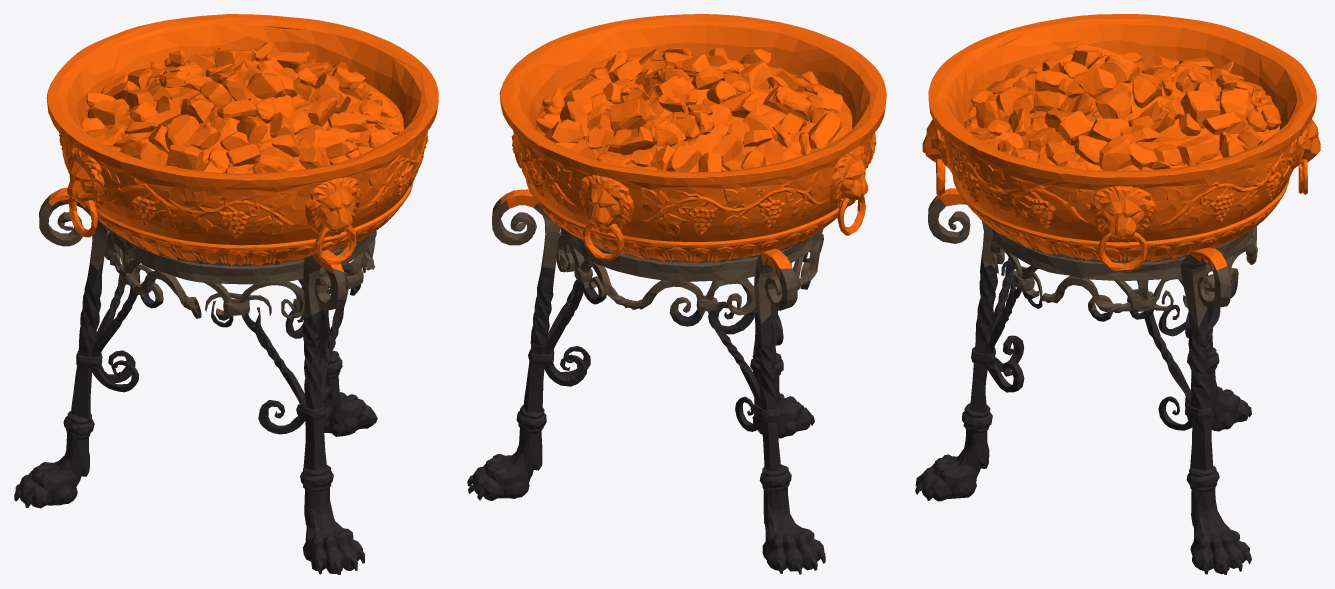
Rendered from arena_brazier.obj.
The picture shows the model from 3 angles, left to right: view 1: azimuth 30°, elevation 25°; view 2: azimuth 150°, elevation 25°; view 3: azimuth 270°, elevation 25°; orthographic projection.
Parts seen in each view (by area): view 1: arena_brazier; view 2: arena_brazier; view 3: arena_brazier.
Part boxes in pixels (x1,y1,x2,y2): arena_brazier: (14, 14, 438, 574); arena_brazier: (467, 14, 886, 574); arena_brazier: (915, 14, 1320, 574).
Size of the model in its own units: 2.05 by 2.4 by 2.06.
